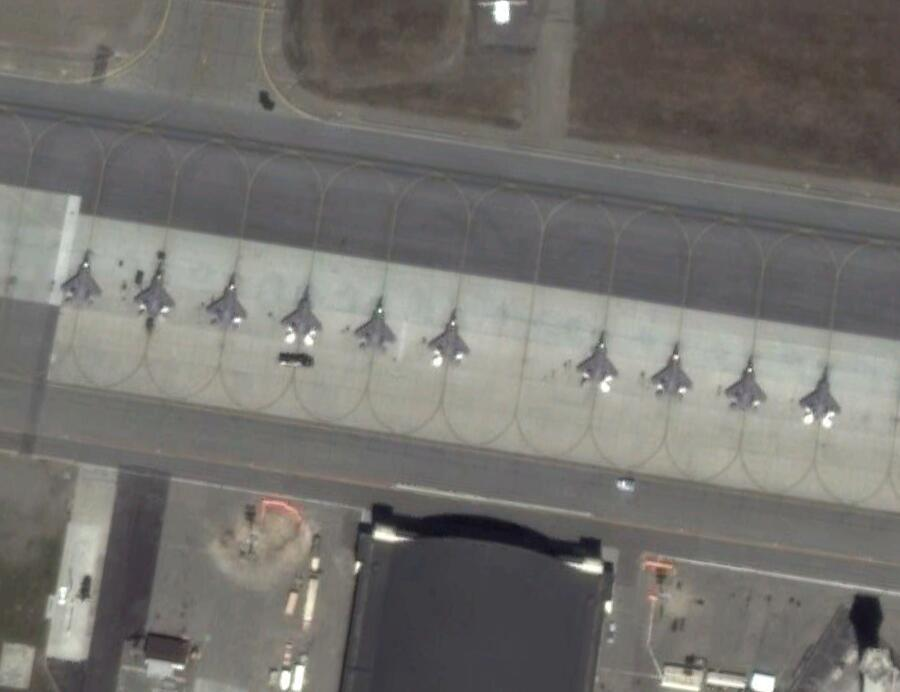A15: (800, 364, 844, 429), (281, 284, 326, 346), (652, 341, 696, 404), (207, 272, 250, 335), (61, 249, 105, 310), (429, 307, 471, 369), (578, 329, 618, 393), (726, 354, 767, 416), (134, 264, 177, 323), (356, 297, 399, 356)
